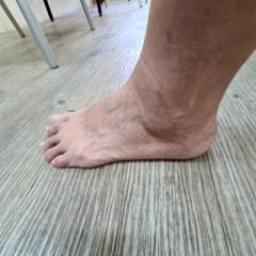Lateral View -Left Foot-: (22, 63, 246, 183)
